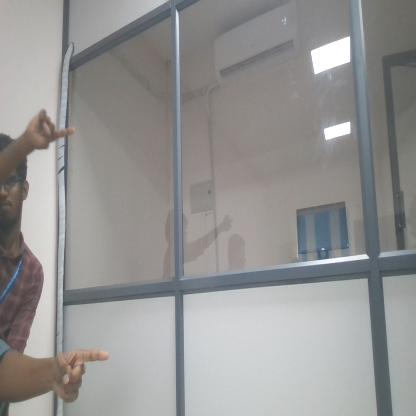Left: (50, 344, 110, 404), (28, 105, 77, 156)
